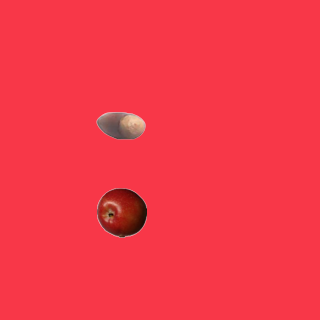Apple Braeburn: (96, 187, 146, 237)
Hazelnut: (95, 100, 145, 150)
